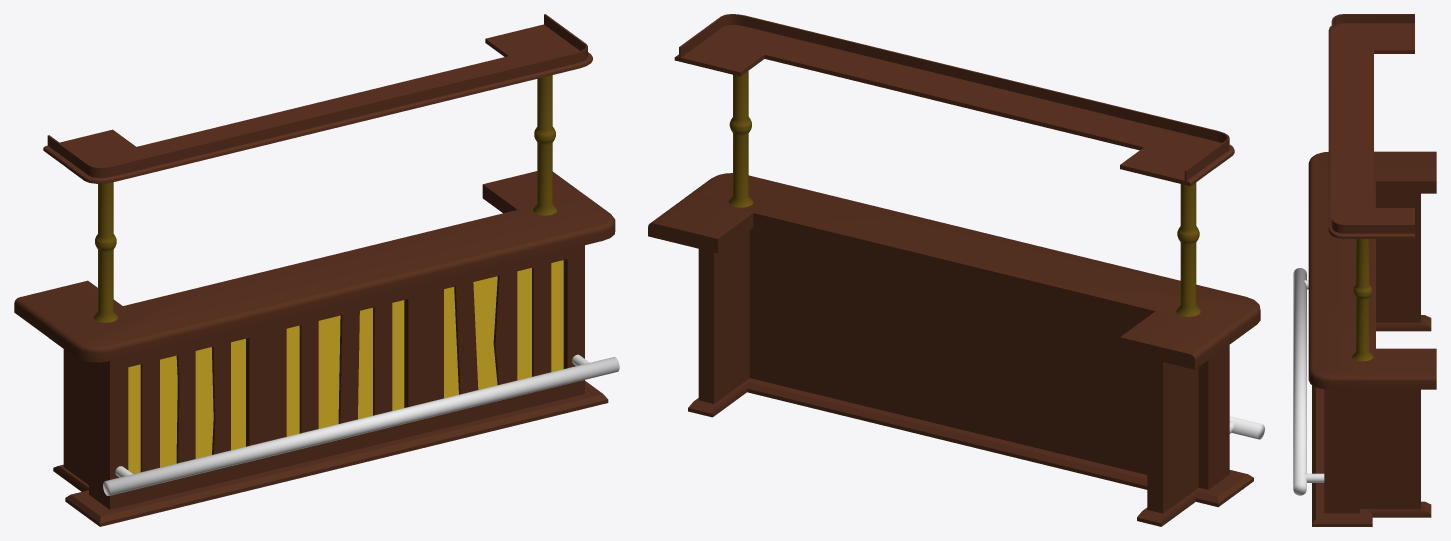
Rendered from Komplette_Theke.fbx.
3 renders of one model, left to right at view 1: azimuth 30°, elevation 25°; view 2: azimuth 150°, elevation 25°; view 3: azimuth 270°, elevation 25°, orthographic. The views are drawn at different scales.
Parts seen in each view (by area): view 1: Cube, Cube.016, Cube.003, Cube.008, Fusstritt.002, Cylinder.005, Cylinder.003; view 2: Cube, Cube.008, Cylinder.005, Cylinder.003; view 3: Cube, Cube.008, Fusstritt.002, Cylinder.003.
Part boxes in pixels (x1=…): Cube: x1=14, y1=171, x2=615, y2=526; Cube.016: x1=128, y1=260, x2=563, y2=473; Cube.003: x1=140, y1=263, x2=551, y2=472; Cube.008: x1=43, y1=14, x2=592, y2=183; Fusstritt.002: x1=103, y1=354, x2=619, y2=495; Cylinder.005: x1=93, y1=182, x2=117, y2=322; Cylinder.003: x1=533, y1=75, x2=557, y2=215; Cube: x1=648, y1=173, x2=1260, y2=526; Cube.008: x1=674, y1=14, x2=1234, y2=186; Cylinder.005: x1=1176, y1=182, x2=1200, y2=316; Cylinder.003: x1=728, y1=71, x2=753, y2=207; Cube: x1=1308, y1=151, x2=1436, y2=526; Cube.008: x1=1328, y1=14, x2=1414, y2=238; Fusstritt.002: x1=1293, y1=268, x2=1324, y2=495; Cylinder.003: x1=1352, y1=239, x2=1373, y2=361.
Size of the model in its own units: 400 by 246 by 106.
